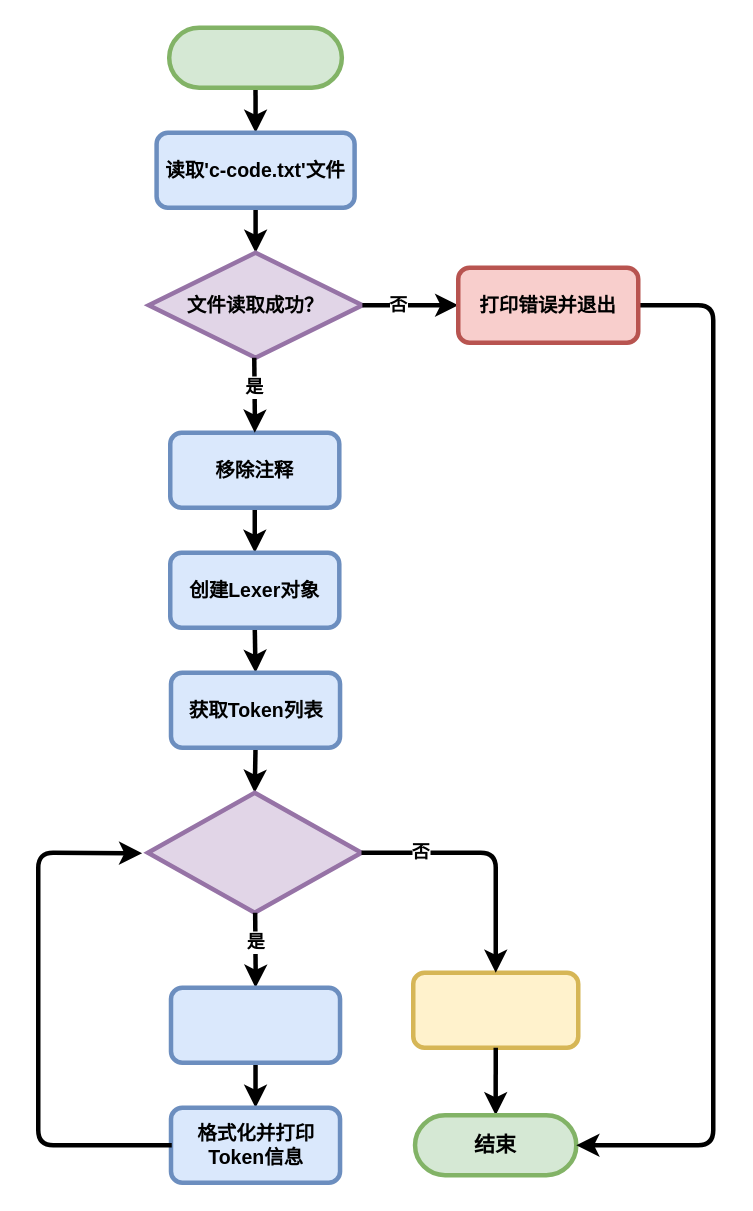
The diagram is 753 pixels wide and 1211 high, and some of its shapes have lost their labels. The centre of each missing label's shape, as x and y in pixels:
"列表中还有 未打印的Token?" belongs at (254,852).
"开始" belongs at (254,57).
"打印符号表" belongs at (495,1009).
"获取下一个Token" belongs at (255,1024).
